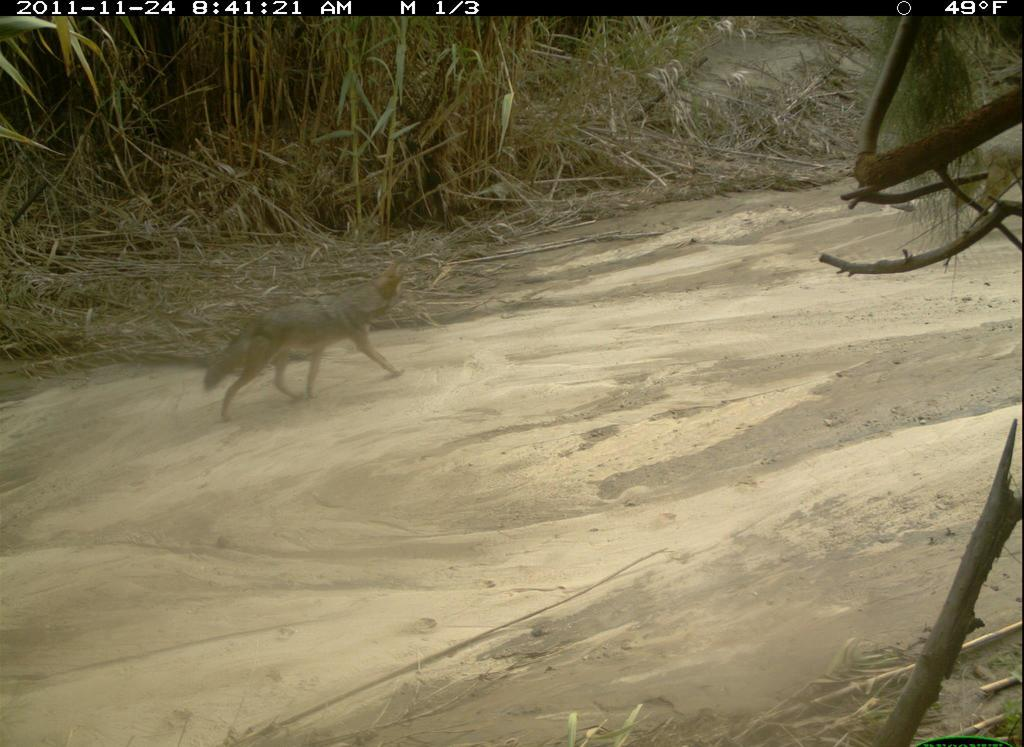coyote: (200, 258, 425, 420)
